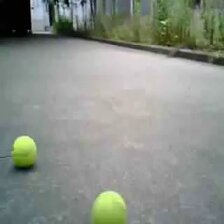tennis: (91, 191, 127, 224), (12, 136, 36, 169)
